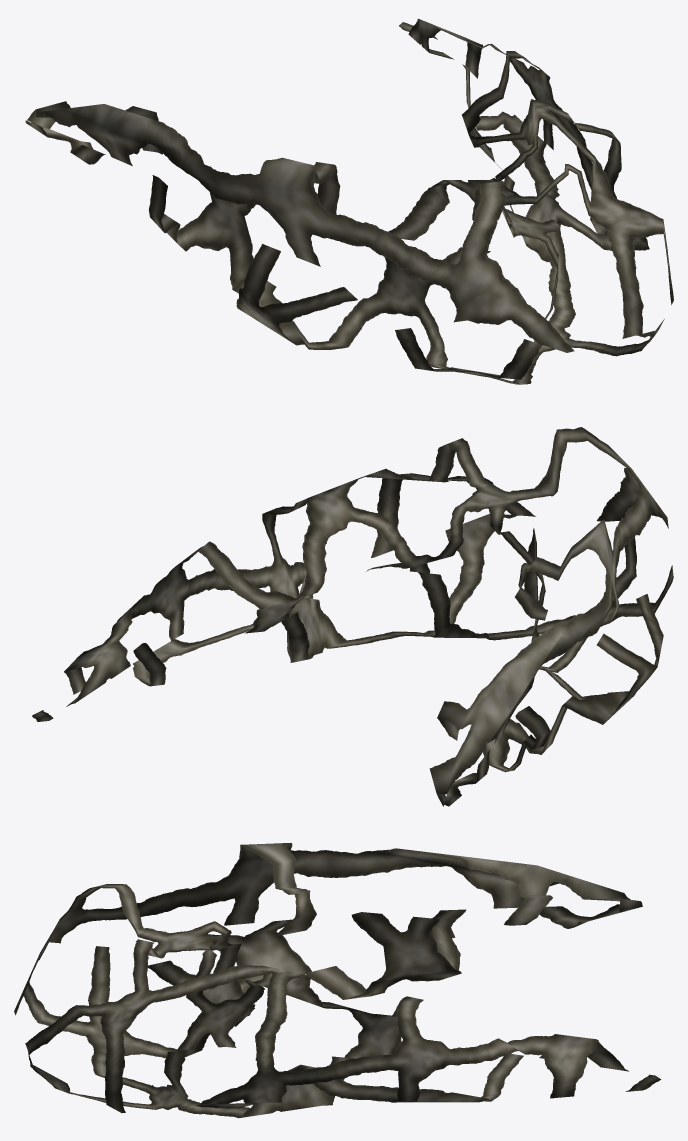
Rendered from TI_FishNet_01.fbx.
The picture shows the model from 3 angles, top to bottom: view 1: azimuth 30°, elevation 25°; view 2: azimuth 150°, elevation 25°; view 3: azimuth 270°, elevation 25°; orthographic projection. The views are drawn at different scales.
Parts seen in each view (by area): view 1: TI_FishNet_01; view 2: TI_FishNet_01; view 3: TI_FishNet_01.
Part boxes in pixels (x1=…): TI_FishNet_01: x1=25, y1=18, x2=673, y2=384; TI_FishNet_01: x1=32, y1=427, x2=673, y2=806; TI_FishNet_01: x1=14, y1=843, x2=661, y2=1118.
Size of the model in its own units: 1.61 by 0.7752 by 2.48.
